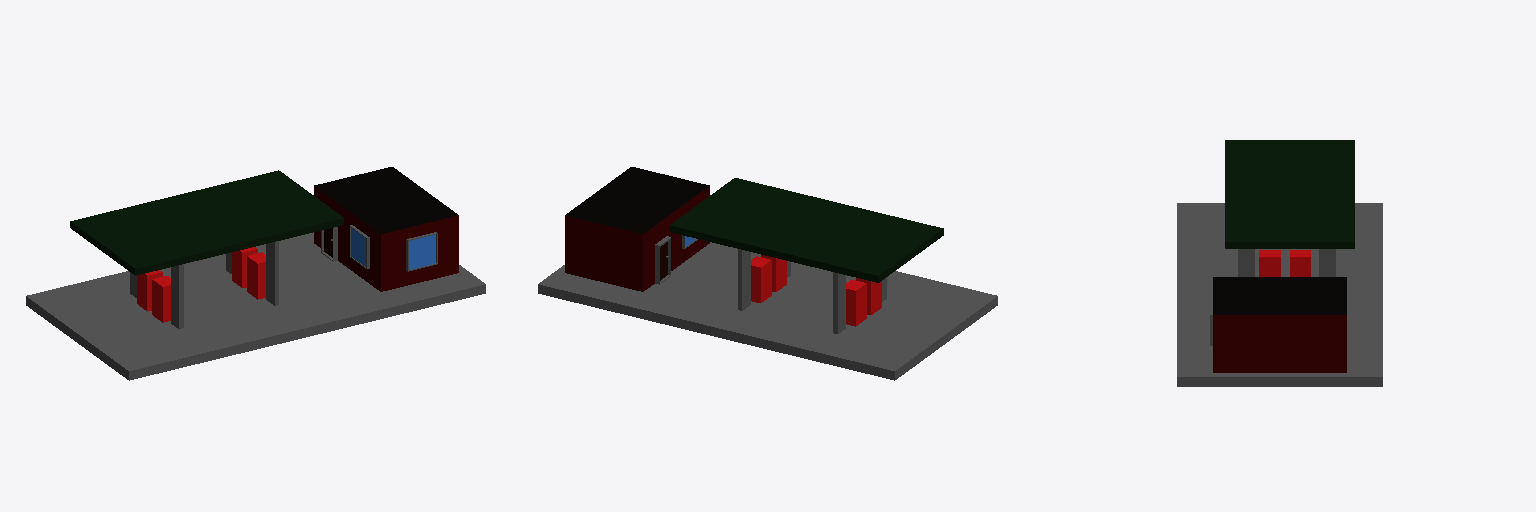
File: GasStation.obj
The picture shows the model from 3 angles: view 1: azimuth 30°, elevation 25°; view 2: azimuth 150°, elevation 25°; view 3: azimuth 270°, elevation 25°; orthographic projection.
Parts seen in each view (by area): view 1: Road_End_RoadEnd; view 2: Road_End_RoadEnd; view 3: Road_End_RoadEnd.
Boxes of the visible parts, x1=… form: Road_End_RoadEnd: x1=26, y1=167, x2=485, y2=380; Road_End_RoadEnd: x1=538, y1=167, x2=997, y2=380; Road_End_RoadEnd: x1=1177, y1=140, x2=1382, y2=386.
Bounding box in the file's own units: 20 × 4.64 × 10.